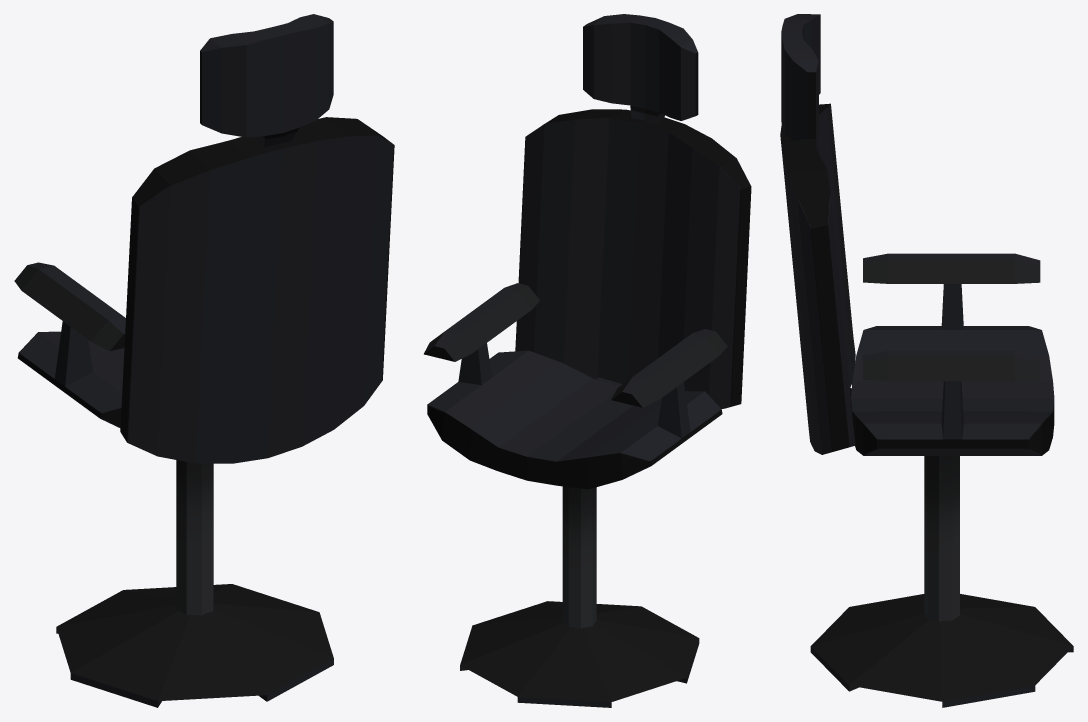
The model's file is Sit.fbx.
The picture shows the model from 3 angles, left to right: view 1: azimuth 30°, elevation 25°; view 2: azimuth 150°, elevation 25°; view 3: azimuth 270°, elevation 25°; orthographic projection. The views are drawn at different scales.
Parts seen in each view (by area): view 1: Plane001; view 2: Plane001; view 3: Plane001.
Part boxes in pixels (left/top/right/bottom): Plane001: left=14, top=14, right=394, bottom=707; Plane001: left=424, top=14, right=751, bottom=707; Plane001: left=780, top=14, right=1073, bottom=707.
Bounding box in the file's own units: 45.61 × 110 × 47.26.
